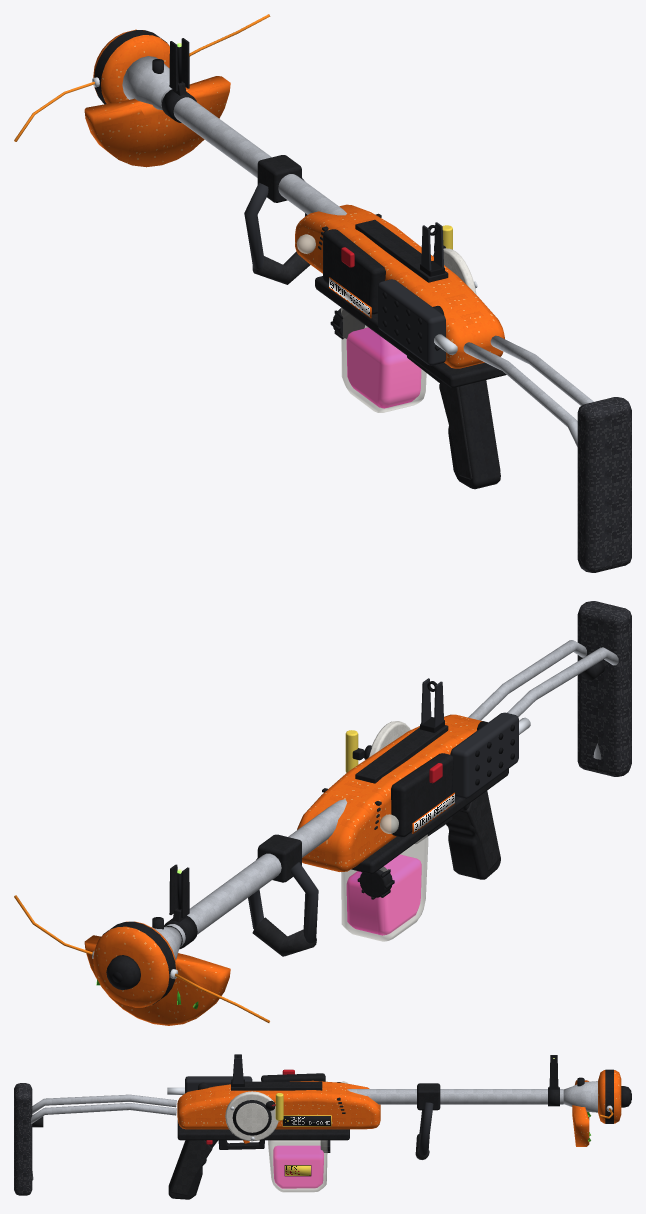
The model's file is w_autoshot_trimmer.glb.
3 views of the same model, one above another, from view 1: azimuth 30°, elevation 25°; view 2: azimuth 150°, elevation 25°; view 3: azimuth 270°, elevation 25° (orthographic). The views are drawn at different scales.
Parts seen in each view (by area): view 1: trimmer_body_wzA, trimmer_body_wzB, mag_wzB, mag_wzN, trimmer_body_wzN; view 2: trimmer_body_wzA, trimmer_body_wzB, mag_wzB, mag_wzN, trimmer_body_wzN; view 3: trimmer_body_wzA, trimmer_body_wzB, mag_wzB, mag_wzN, trimmer_body_wzN, charge_wzN.
Part boxes in pixels (x1=…): trimmer_body_wzA: x1=252, y1=155, x2=631, y2=572; trimmer_body_wzB: x1=84, y1=29, x2=593, y2=446; mag_wzB: x1=330, y1=307, x2=426, y2=412; mag_wzN: x1=346, y1=327, x2=421, y2=408; trimmer_body_wzN: x1=14, y1=14, x2=371, y2=318; trimmer_body_wzA: x1=252, y1=601, x2=631, y2=956; trimmer_body_wzB: x1=84, y1=640, x2=618, y2=1025; mag_wzB: x1=341, y1=834, x2=428, y2=941; mag_wzN: x1=346, y1=854, x2=421, y2=935; trimmer_body_wzN: x1=14, y1=763, x2=454, y2=1022; trimmer_body_wzA: x1=14, y1=1073, x2=440, y2=1199; trimmer_body_wzB: x1=31, y1=1054, x2=631, y2=1180; mag_wzB: x1=268, y1=1140, x2=330, y2=1192; mag_wzN: x1=273, y1=1145, x2=323, y2=1188; trimmer_body_wzN: x1=206, y1=1058, x2=613, y2=1144; charge_wzN: x1=272, y1=1093, x2=283, y2=1120.
Bounding box in the file's own units: 0.3802 × 0.319 × 1.27.
22 materials, 11 textured.
